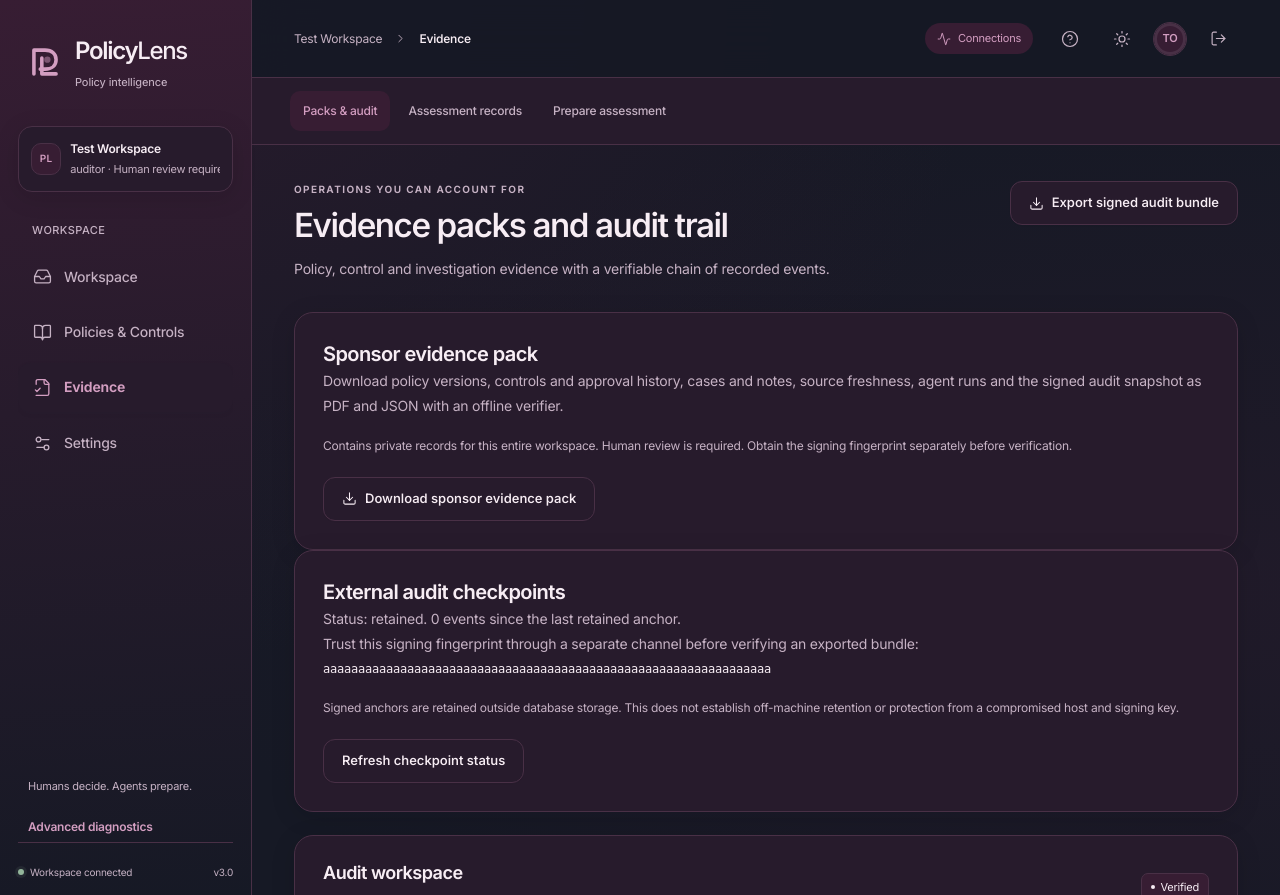
Test: signed audit download failures are visible to a read-only auditor
Click the button "Export signed audit bundle" at (1124, 203), box [1010, 181, 1238, 225]
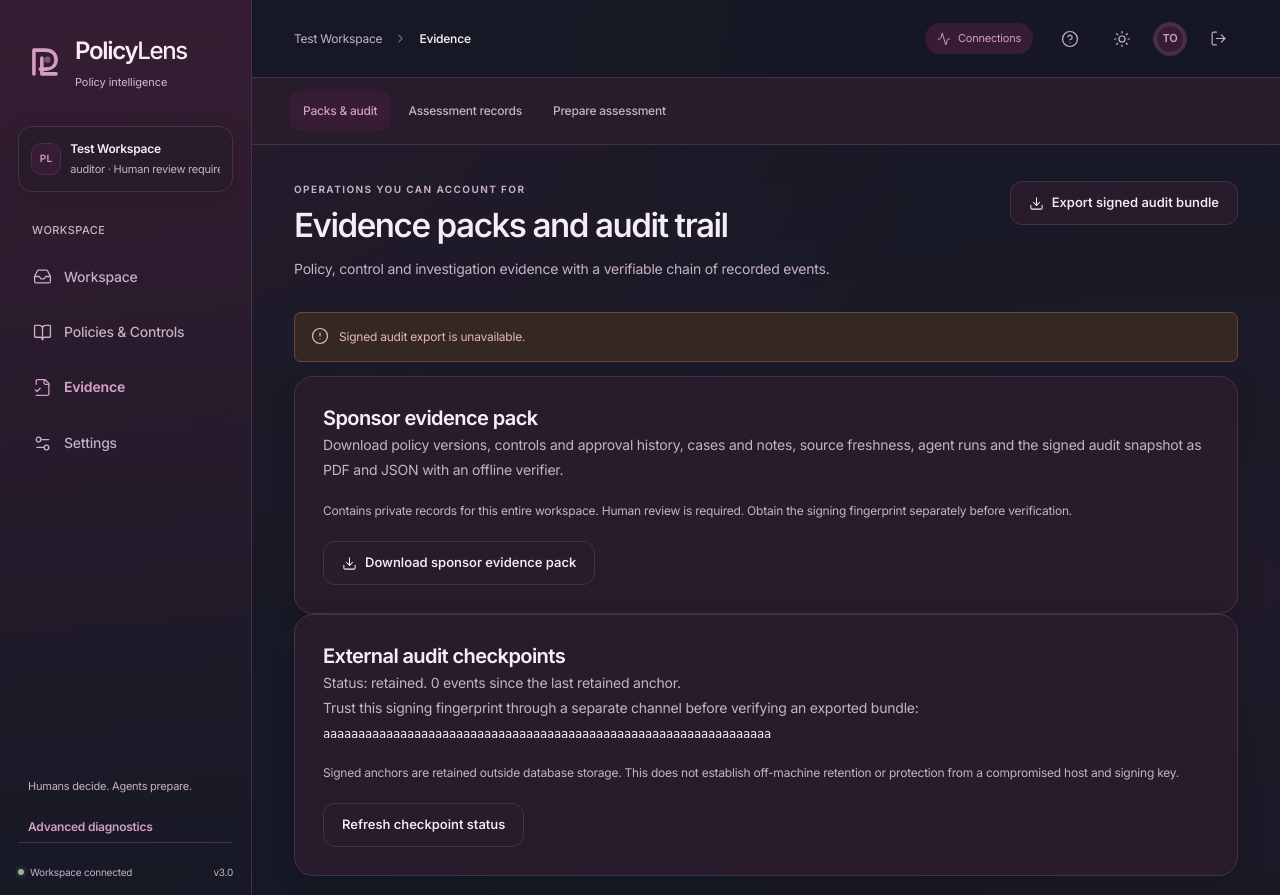
Expected: the text "Signed audit export is unavailable." is shown, [339, 327, 525, 347]
